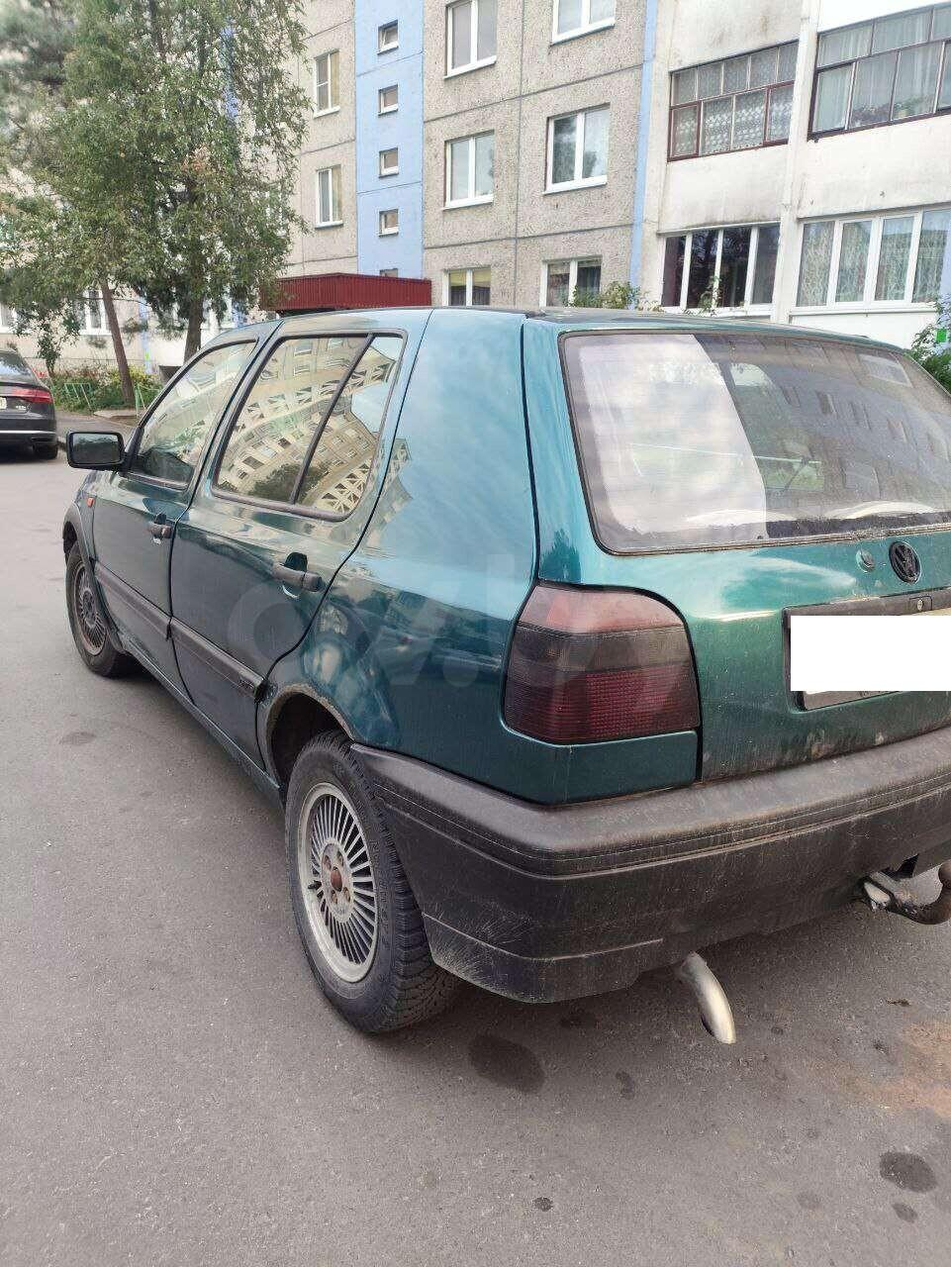Golf_1991-2000: (57, 302, 951, 1051)
